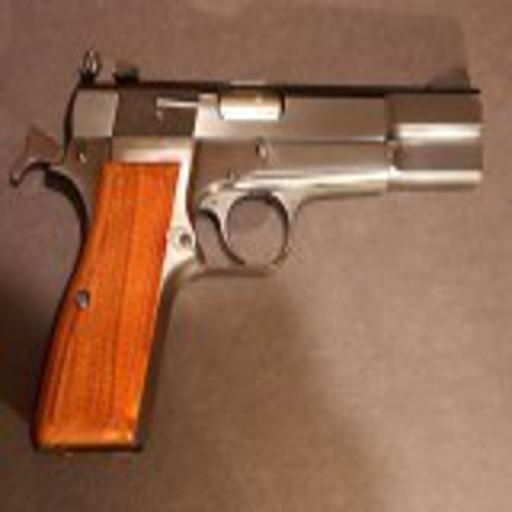Handgun: (11, 41, 485, 459)
